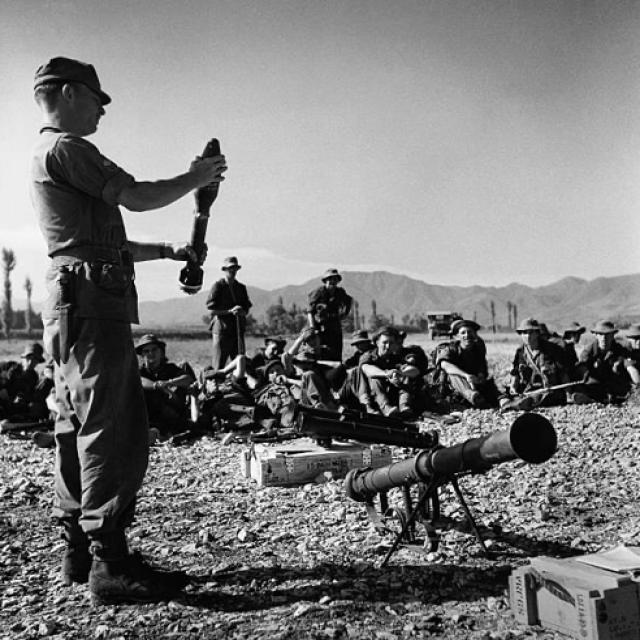bazooka: (332, 408, 566, 510), (171, 131, 230, 302)
